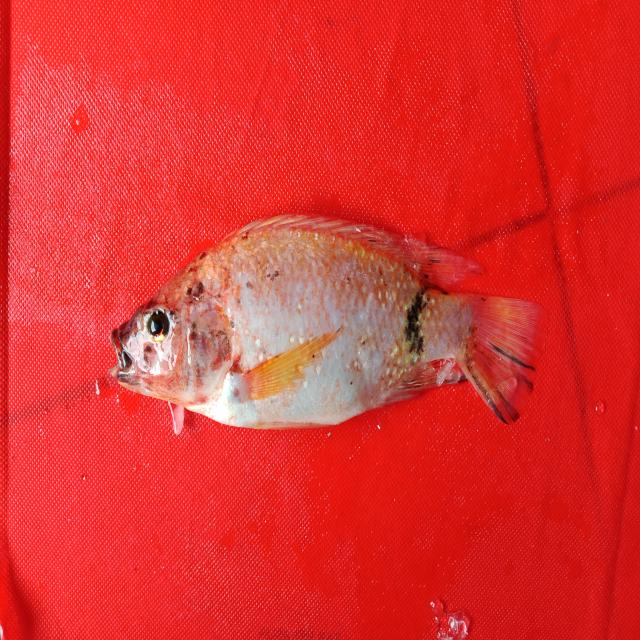ikan: (108, 211, 546, 435)
